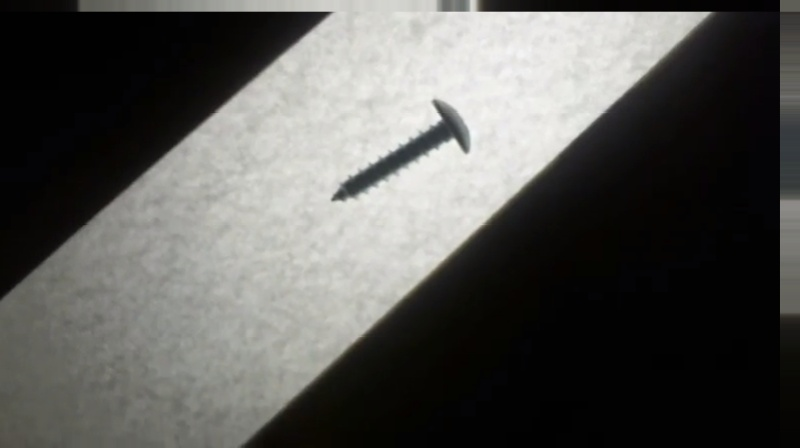S003: (325, 96, 477, 202)
